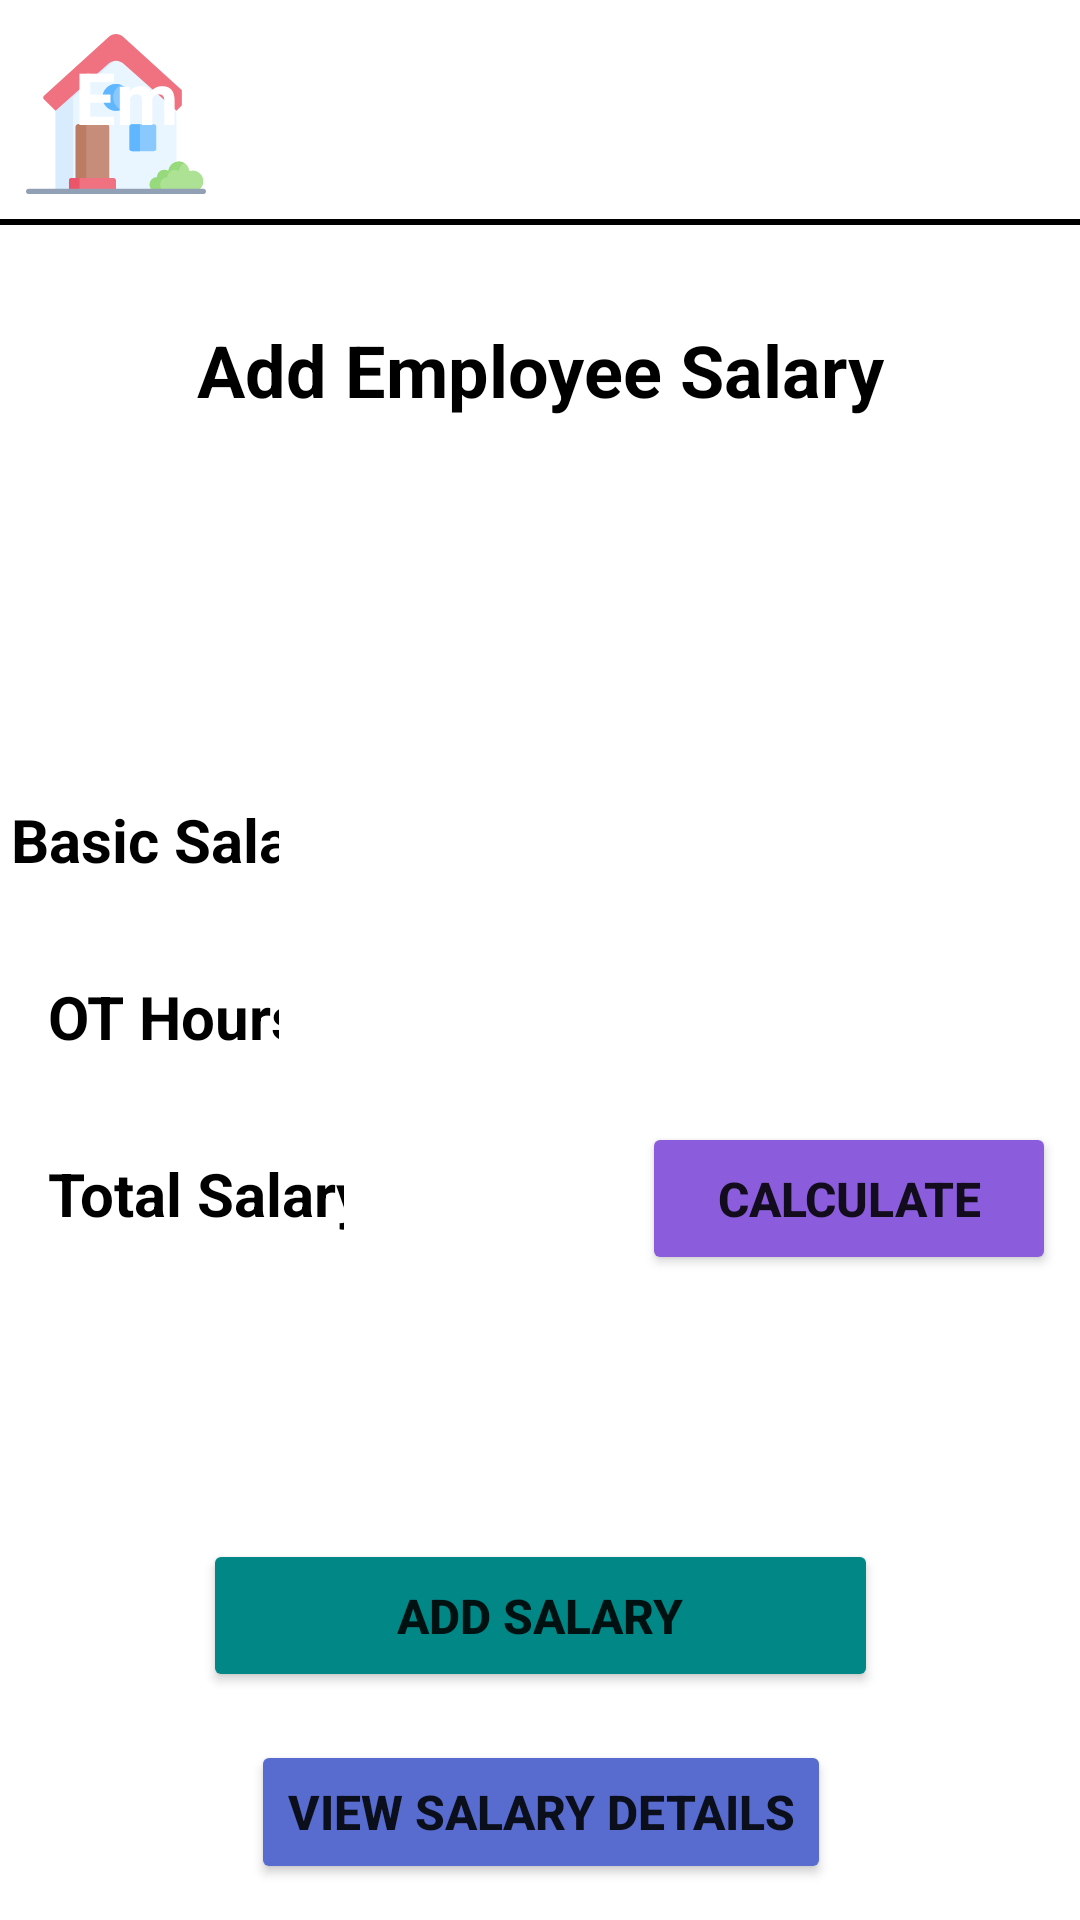

Icons on this 1080w x 1920h Android screen, each with its box as (x1, y1, x2, y2):
home: (26, 34, 206, 194)
